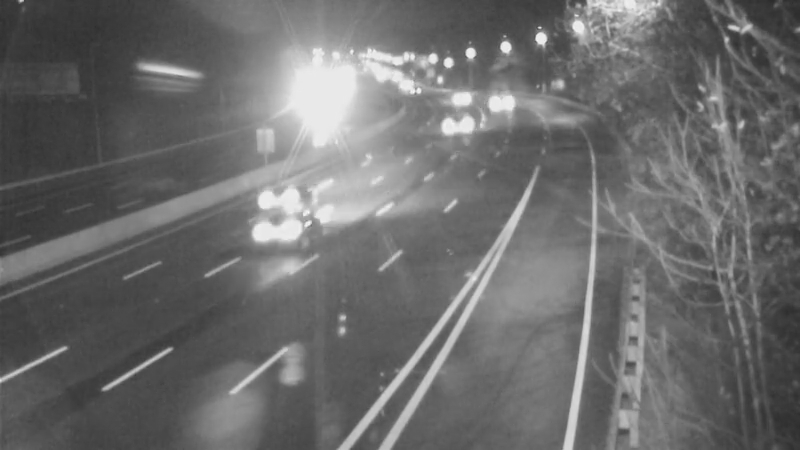vehicle: (236, 162, 316, 242), (233, 193, 313, 273), (393, 66, 443, 116), (437, 71, 487, 121), (474, 79, 524, 129), (433, 99, 483, 149), (290, 78, 340, 128)
